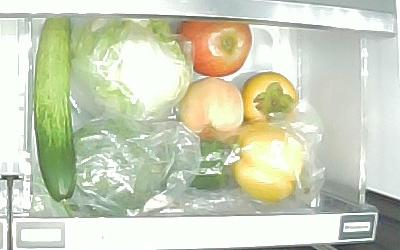apple: (180, 19, 256, 76)
broccoli_vinyl: (75, 122, 180, 212)
cucumber: (33, 18, 79, 203)
lettuce_vinyl: (80, 17, 190, 120)
paprika_vinyl: (235, 126, 317, 205), (164, 139, 238, 188)
peach: (176, 76, 243, 142)
persimmon: (243, 73, 299, 127)
